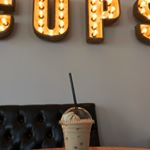other: (55, 104, 96, 150)
